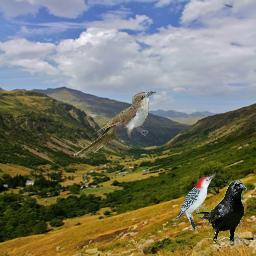Crow: (196, 180, 247, 243)
Cuckoo: (73, 91, 156, 157)
Woodpecker: (172, 174, 217, 232)
